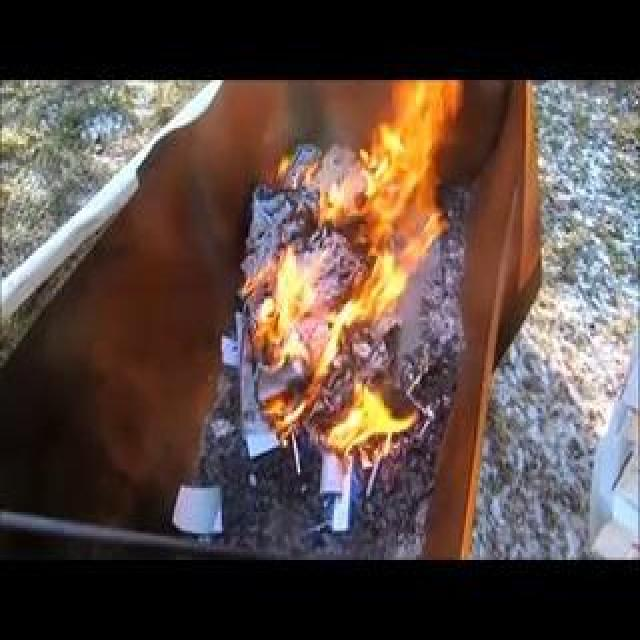Fire: (214, 270, 344, 378)
